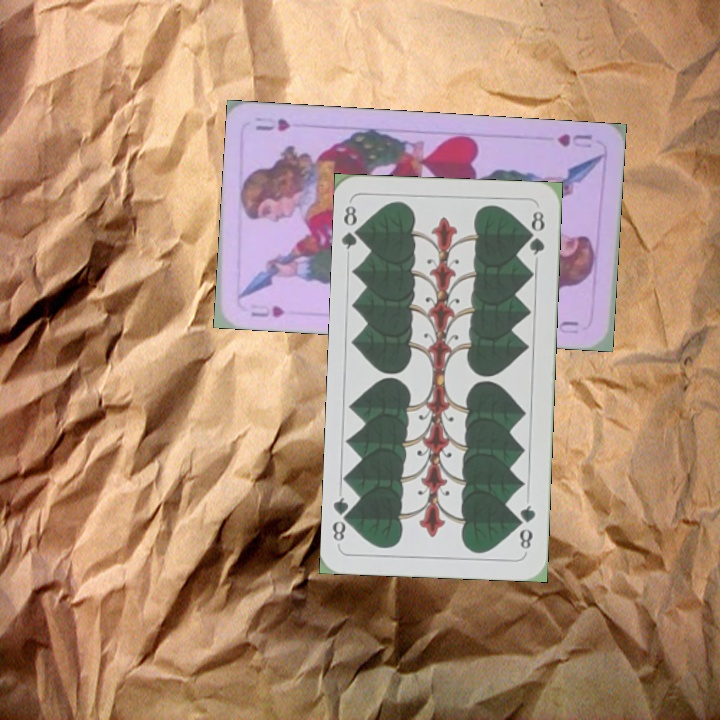G8: (339, 202, 366, 252), (514, 501, 538, 552)
HU: (553, 129, 594, 151), (246, 300, 287, 320)
